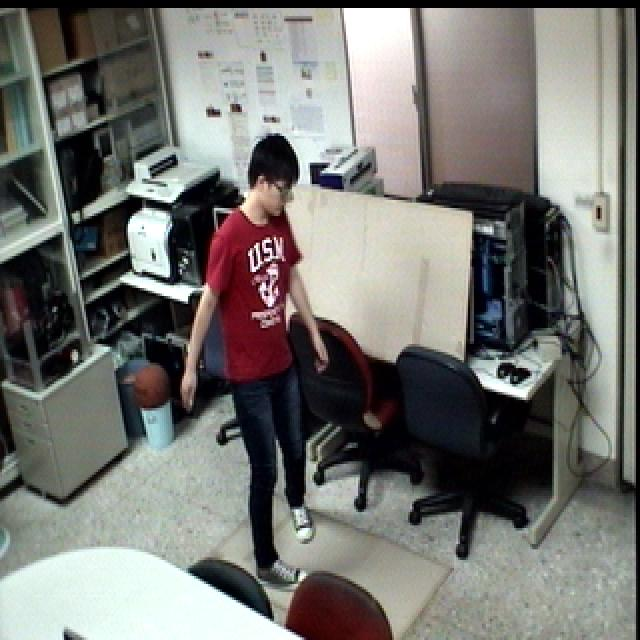stand: (176, 133, 340, 611)
